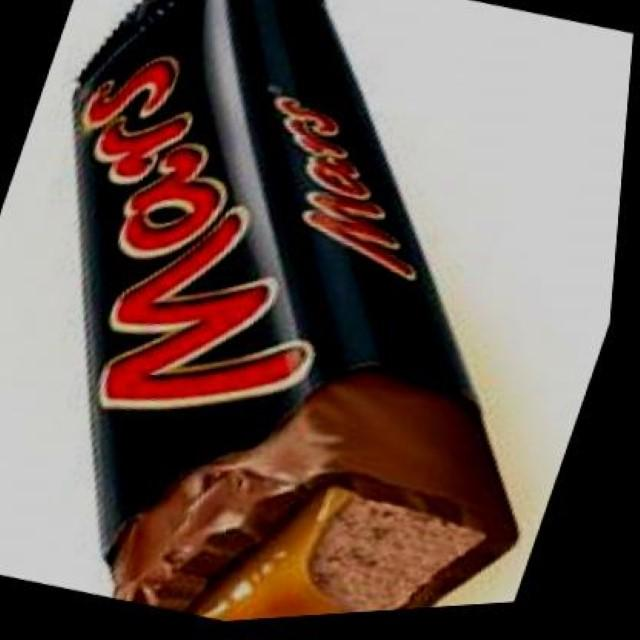mars_chocolate: (65, 8, 438, 550)
